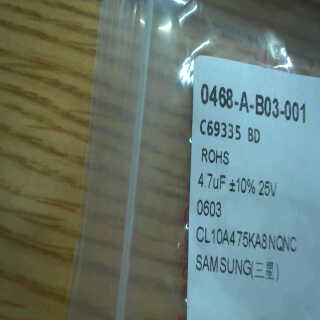4.7uF: (197, 170, 228, 194)
